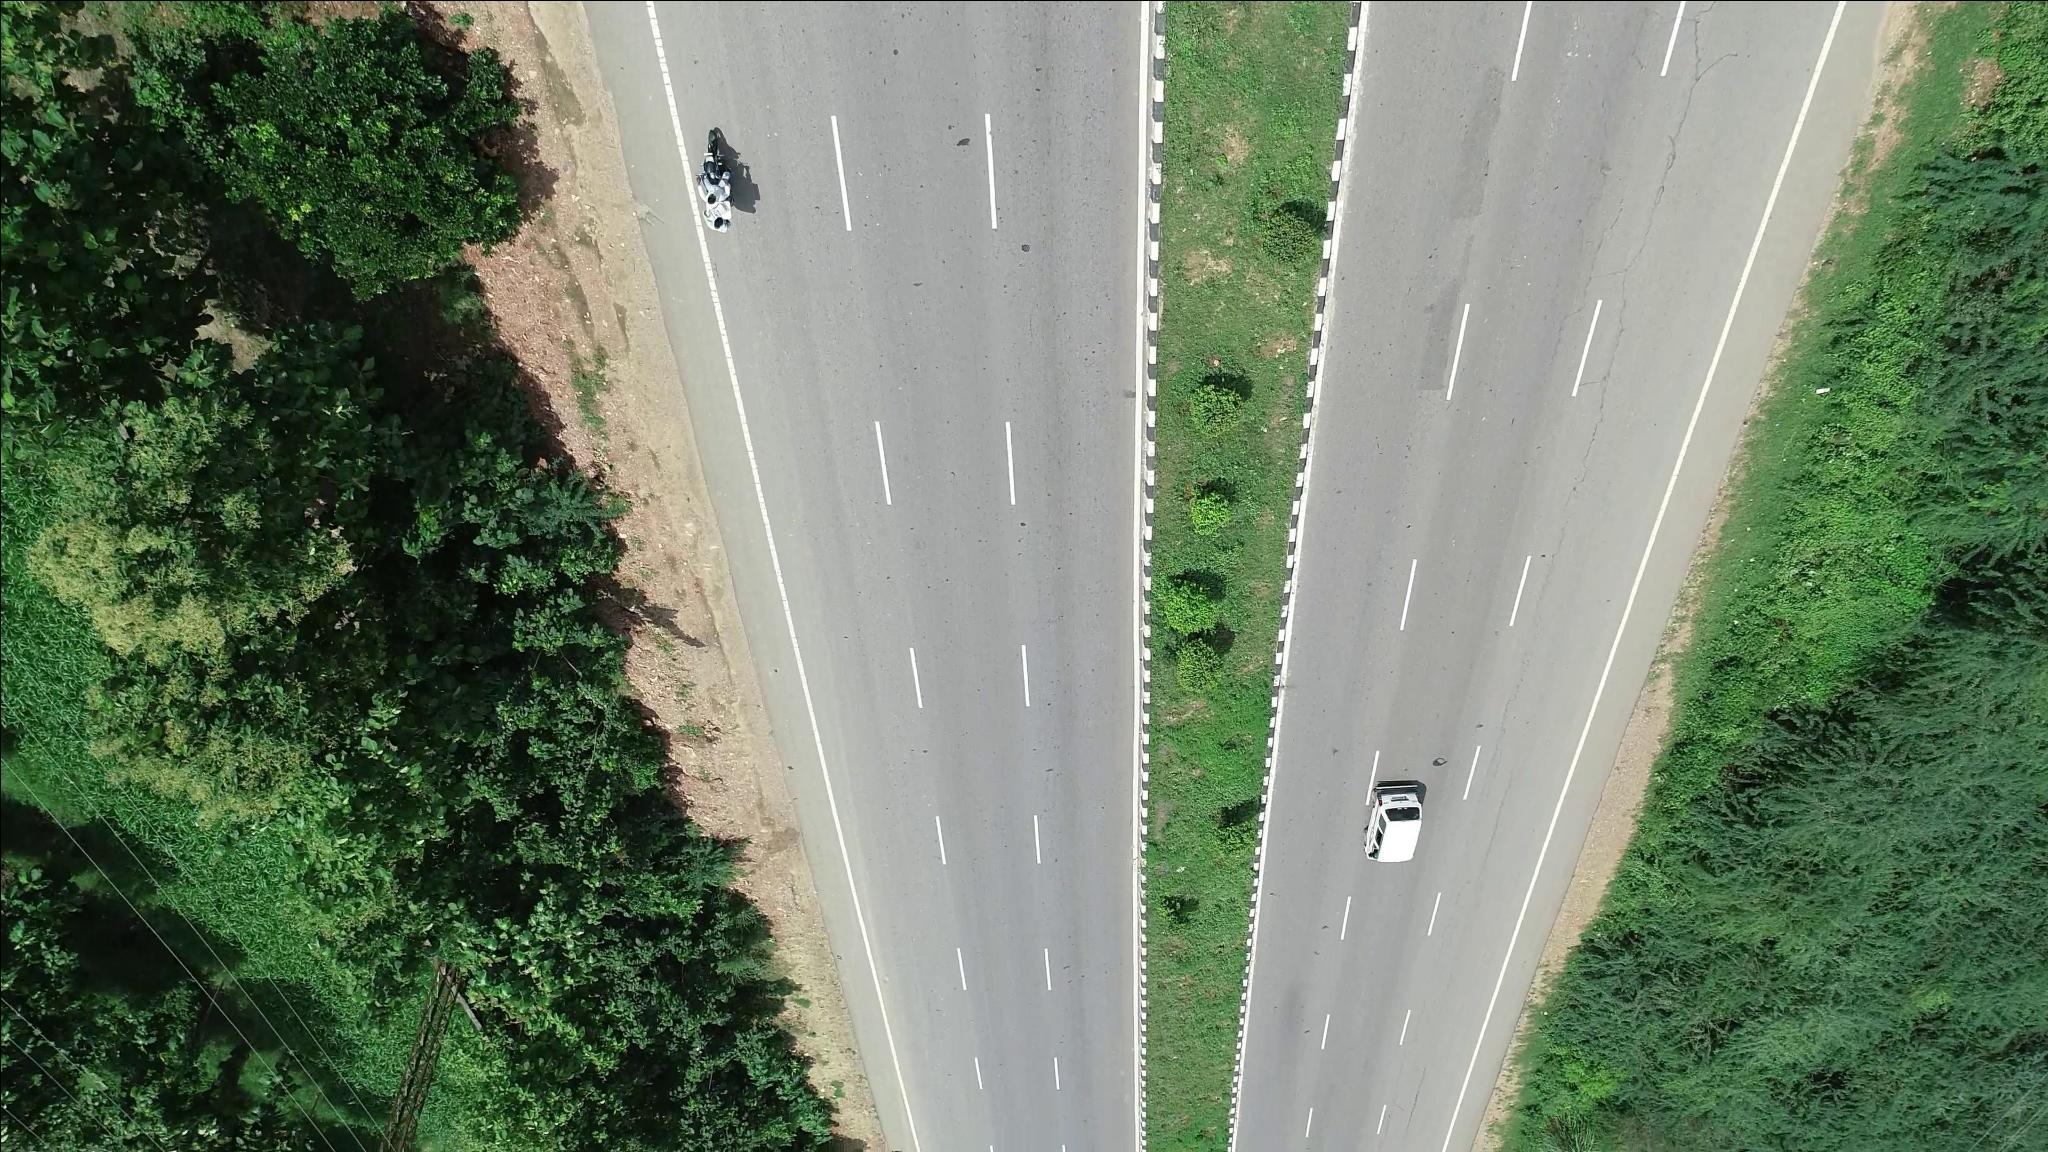Ravelling: (1609, 96, 1701, 346), (1553, 381, 1611, 560), (1491, 679, 1537, 788)
